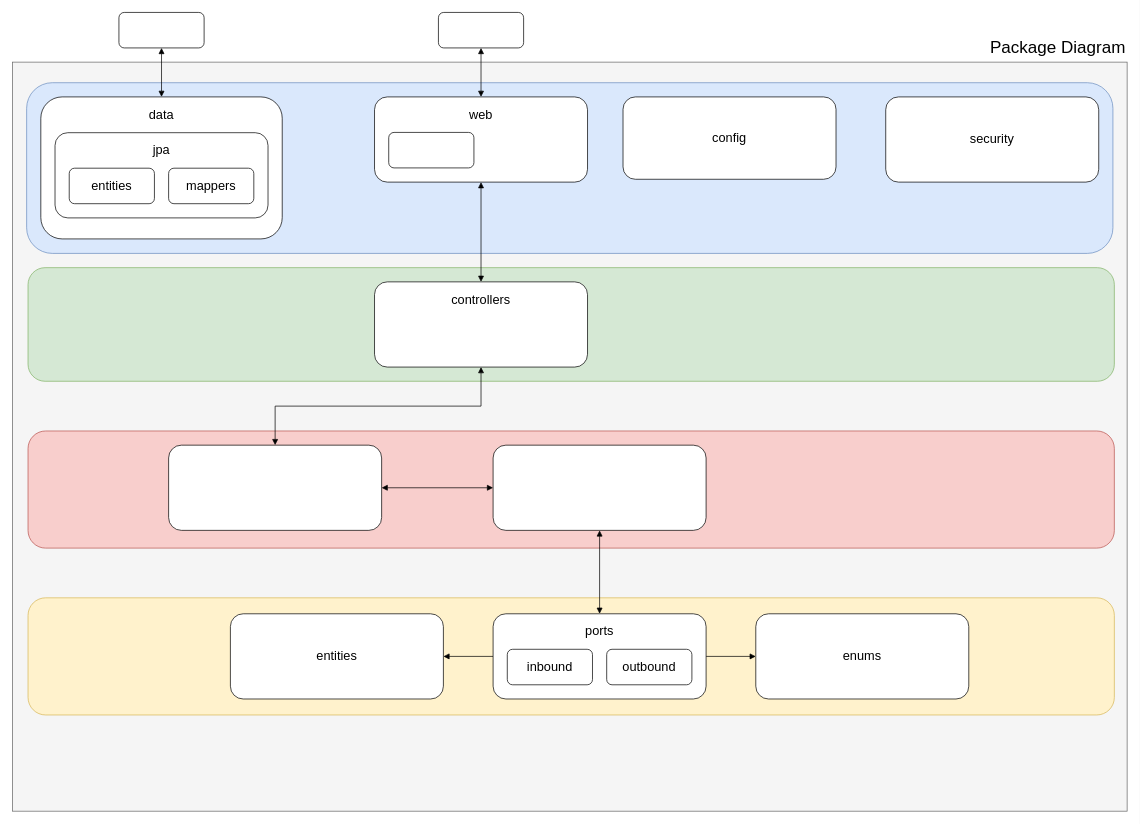
The diagram is 1140 pixels wide and 824 high, and some of its shapes have lost their labels. Here are the shapes that lost their labels. From the top down, the centre of each, then its label:
At (x=161, y=30): "repositories".
At (x=481, y=30): "user".
At (x=431, y=150): "rest".
At (x=275, y=487): "services".
At (x=599, y=487): "usecases".
